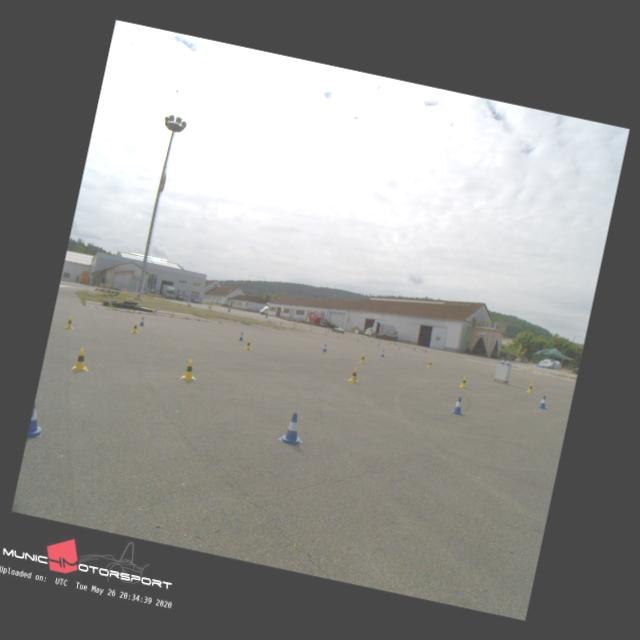blue_cone: (276, 409, 308, 446), (27, 400, 47, 441), (450, 394, 466, 414), (537, 394, 548, 408), (138, 315, 146, 326), (237, 331, 244, 341), (322, 343, 328, 352), (380, 349, 385, 357), (500, 357, 505, 365), (505, 358, 510, 366)
yellow_cone: (71, 347, 92, 372), (180, 358, 200, 382), (348, 366, 360, 382), (64, 315, 74, 329), (458, 375, 468, 388), (130, 320, 140, 333), (243, 338, 253, 350), (525, 381, 534, 393), (358, 352, 366, 363), (427, 359, 432, 368)
